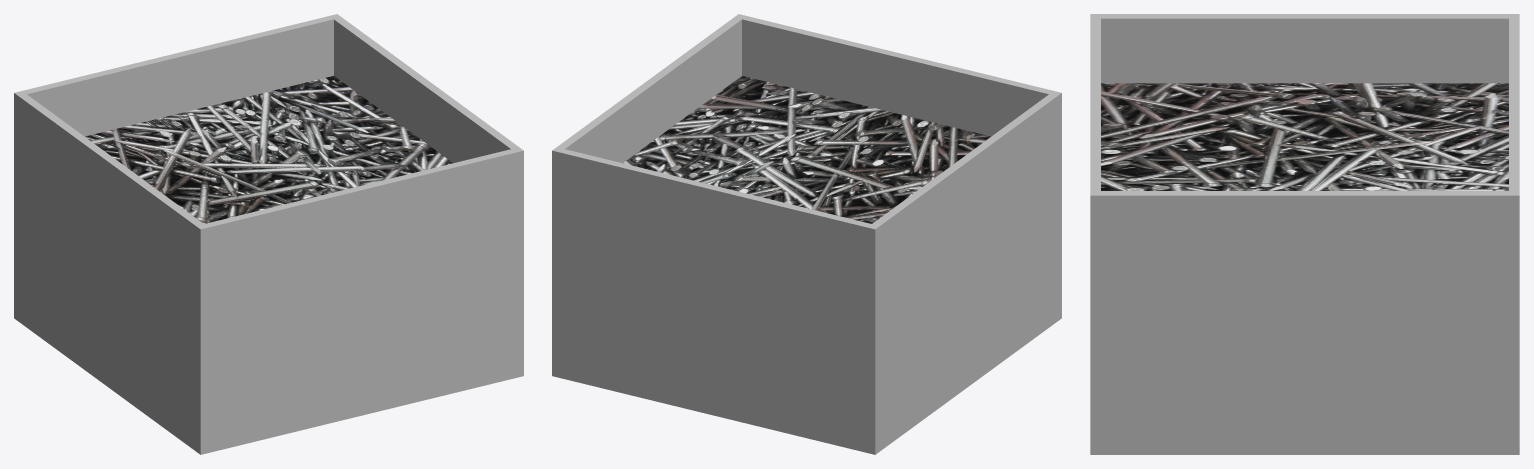
File: Nail.fbx
The picture shows the model from 3 angles, left to right: view 1: azimuth 30°, elevation 25°; view 2: azimuth 150°, elevation 25°; view 3: azimuth 270°, elevation 25°; orthographic projection. The views are drawn at different scales.
Parts seen in each view (by area): view 1: Cube, Plane; view 2: Cube, Plane; view 3: Cube, Plane.
Part boxes in pixels (box(x1,y1,x2,y2)): Cube: box(14, 14, 523, 454); Plane: box(85, 76, 452, 223); Cube: box(552, 14, 1061, 454); Plane: box(623, 76, 990, 223); Cube: box(1090, 14, 1519, 454); Plane: box(1101, 83, 1508, 190).
Size of the model in its own units: 600 by 400 by 600.
